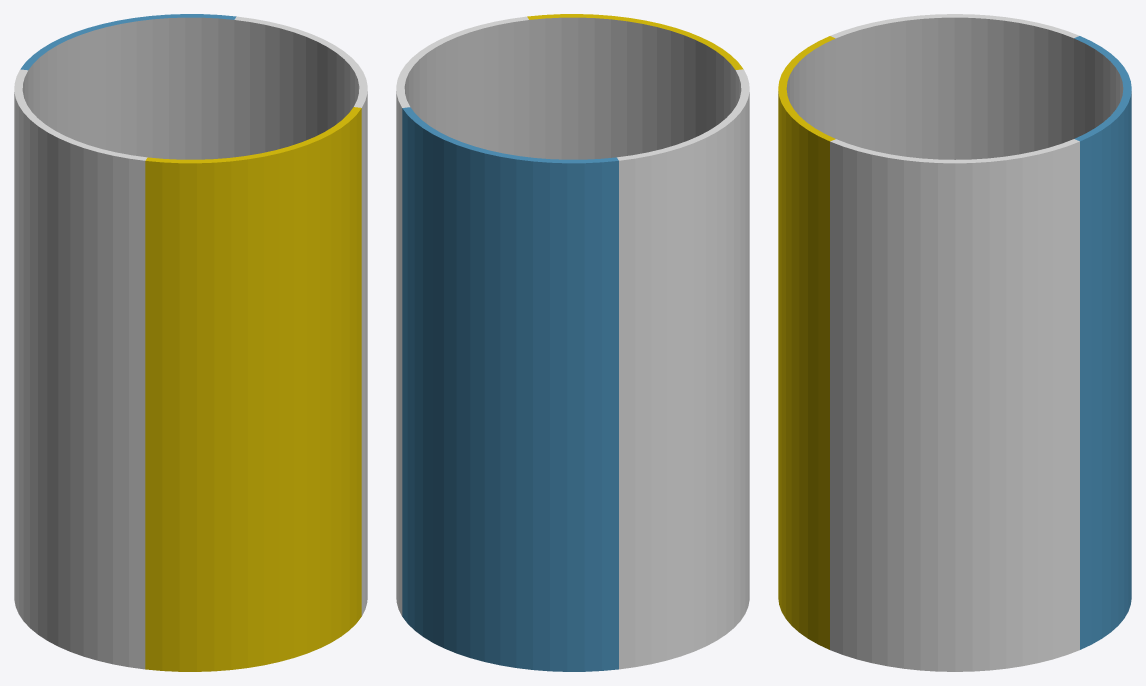
Rendered from mod_lun_bleu_jaune_old.dae.
3 renders of one model, left to right at view 1: azimuth 30°, elevation 25°; view 2: azimuth 150°, elevation 25°; view 3: azimuth 270°, elevation 25°, orthographic.
Visible parts, largest first — view 1: Solid78, Solid68, Solid58, Solid48; view 2: Solid58, Solid68, Solid78, Solid48; view 3: Solid48, Solid68, Solid58, Solid78.
Part boxes in pixels (left/top/right/bottom): Solid78: left=145, top=107, right=361, bottom=671; Solid68: left=14, top=69, right=147, bottom=669; Solid58: left=20, top=14, right=236, bottom=159; Solid48: left=234, top=16, right=367, bottom=616; Solid58: left=402, top=107, right=618, bottom=671; Solid68: left=617, top=69, right=749, bottom=669; Solid78: left=527, top=14, right=743, bottom=159; Solid48: left=396, top=16, right=529, bottom=616; Solid48: left=830, top=139, right=1079, bottom=671; Solid68: left=830, top=14, right=1079, bottom=159; Solid58: left=1074, top=36, right=1131, bottom=649; Solid78: left=778, top=36, right=835, bottom=649.
Size of the model in its own units: 0.063 by 0.063 by 0.1.
